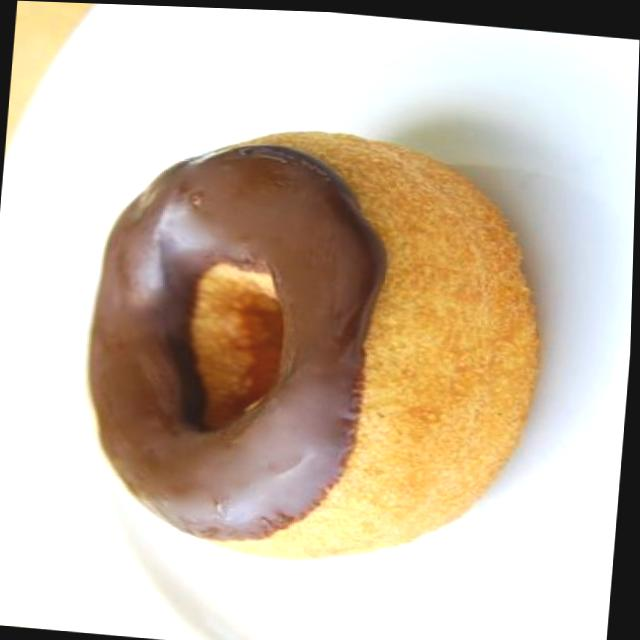炸货点心: (26, 70, 608, 636)
